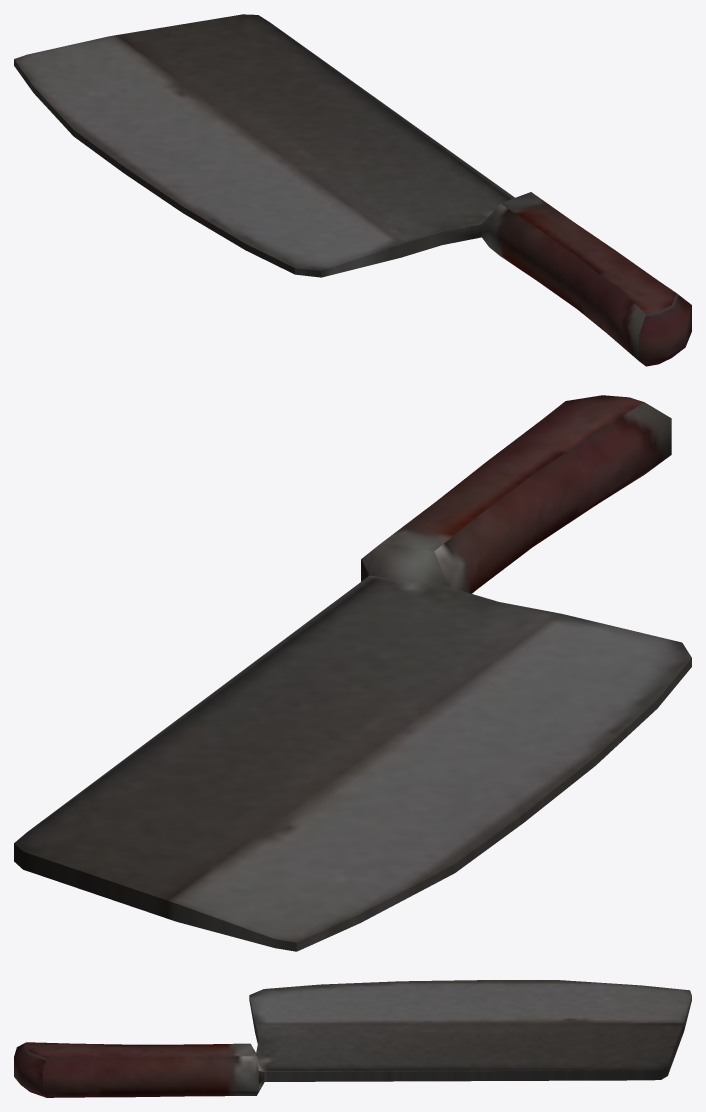
The model's file is kitchen_knife_1.fbx.
The picture shows the model from 3 angles, top to bottom: view 1: azimuth 30°, elevation 25°; view 2: azimuth 150°, elevation 25°; view 3: azimuth 270°, elevation 25°; orthographic projection. The views are drawn at different scales.
Parts seen in each view (by area): view 1: kitchen_knife_1; view 2: kitchen_knife_1; view 3: kitchen_knife_1.
Part boxes in pixels (<box>): kitchen_knife_1: <box>14,14,691,366</box>; kitchen_knife_1: <box>14,395,691,951</box>; kitchen_knife_1: <box>14,980,691,1097</box>.
Size of the model in its own units: 18.12 by 3.34 by 51.79.
